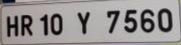0: (157, 6, 173, 33), (50, 13, 64, 37)
1: (39, 14, 50, 37)
5: (124, 8, 139, 35)
6: (140, 7, 156, 34)
7: (105, 6, 121, 36)
H: (6, 12, 19, 39)
R: (19, 13, 34, 38)
Y: (76, 9, 91, 36)
